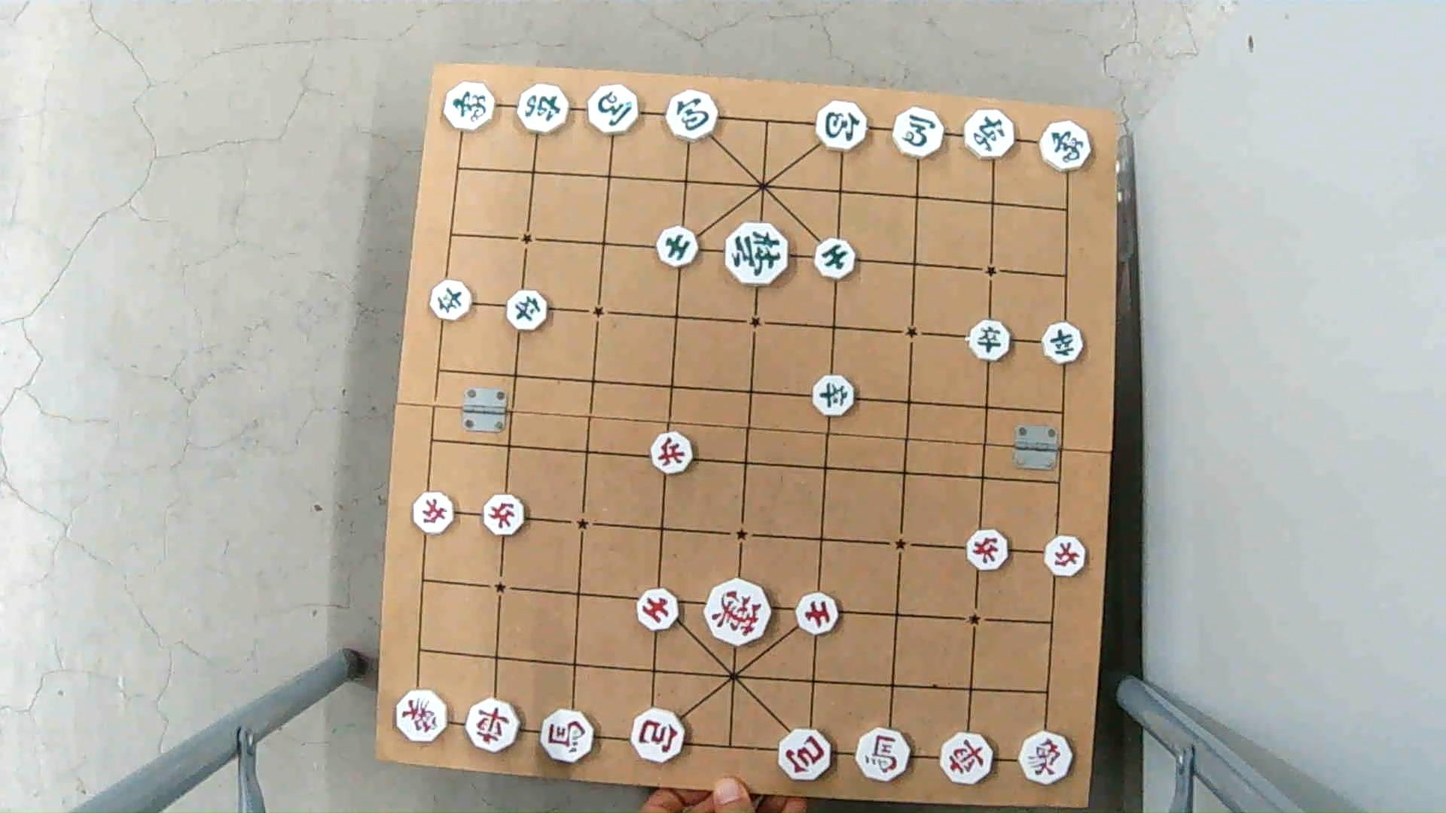cha_green: (511, 85, 569, 132), (960, 108, 1015, 156)
cha_red: (462, 700, 520, 751), (939, 733, 999, 781)
jol_green: (428, 282, 476, 321), (809, 378, 856, 416), (967, 321, 1014, 358), (503, 291, 551, 327), (1040, 323, 1084, 361)
jol_red: (1038, 538, 1091, 575), (409, 492, 456, 531), (480, 496, 528, 534), (648, 435, 697, 472), (963, 530, 1010, 568)
ma_green: (585, 88, 642, 134), (889, 111, 947, 155)
ma_red: (537, 711, 595, 761), (852, 731, 911, 778)
po_green: (812, 102, 871, 148), (665, 95, 721, 141)
po_red: (629, 711, 687, 760), (777, 730, 837, 777)
sa_green: (811, 239, 859, 276), (656, 229, 704, 264)
sa_red: (633, 587, 682, 630), (793, 596, 844, 635)
sang_green: (441, 84, 498, 130), (1036, 121, 1091, 168)
sang_red: (1016, 733, 1076, 781), (395, 692, 453, 741)
wang_green: (724, 225, 792, 280)
wang_red: (703, 583, 773, 639)
